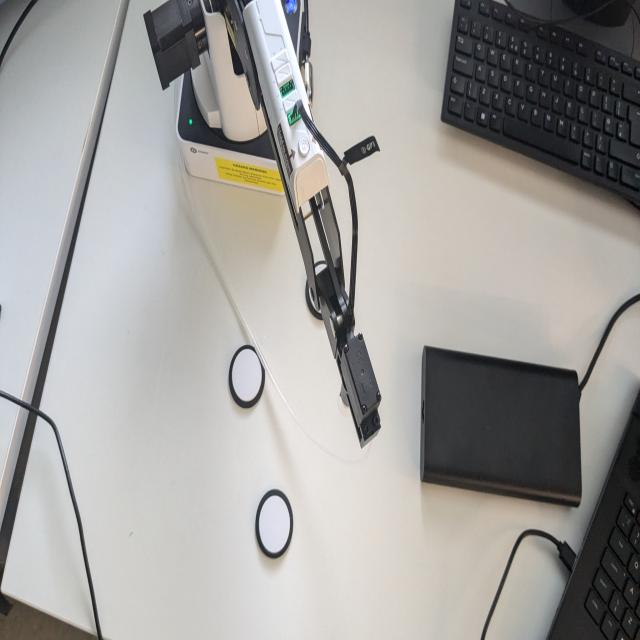Robot-end-effector-HF8z: (335, 328, 383, 451)
